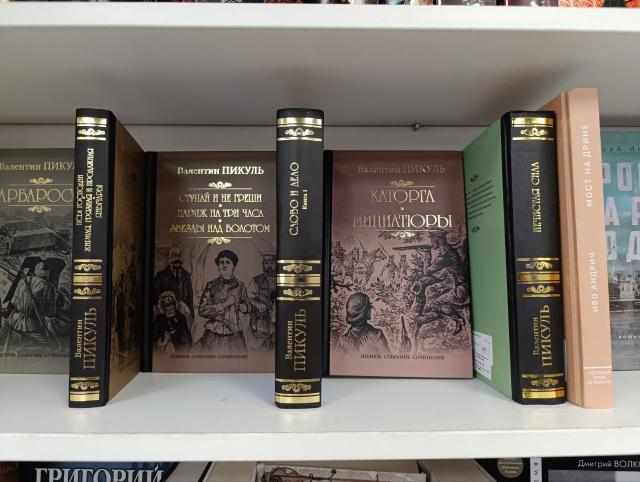book-s-spine: (510, 111, 565, 405), (275, 109, 324, 409), (568, 87, 613, 409), (68, 109, 109, 409)
